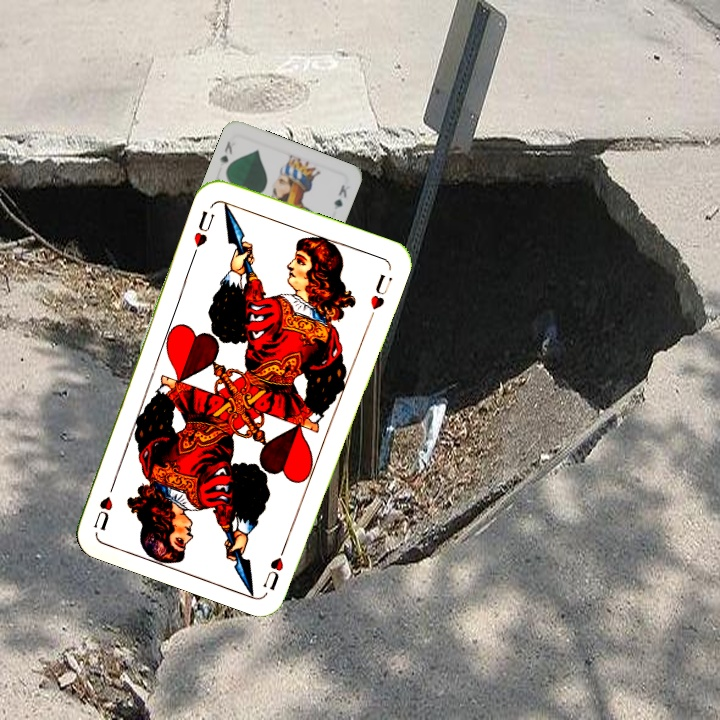GK: (216, 137, 235, 165)
HU: (259, 536, 291, 593), (189, 206, 217, 258)
